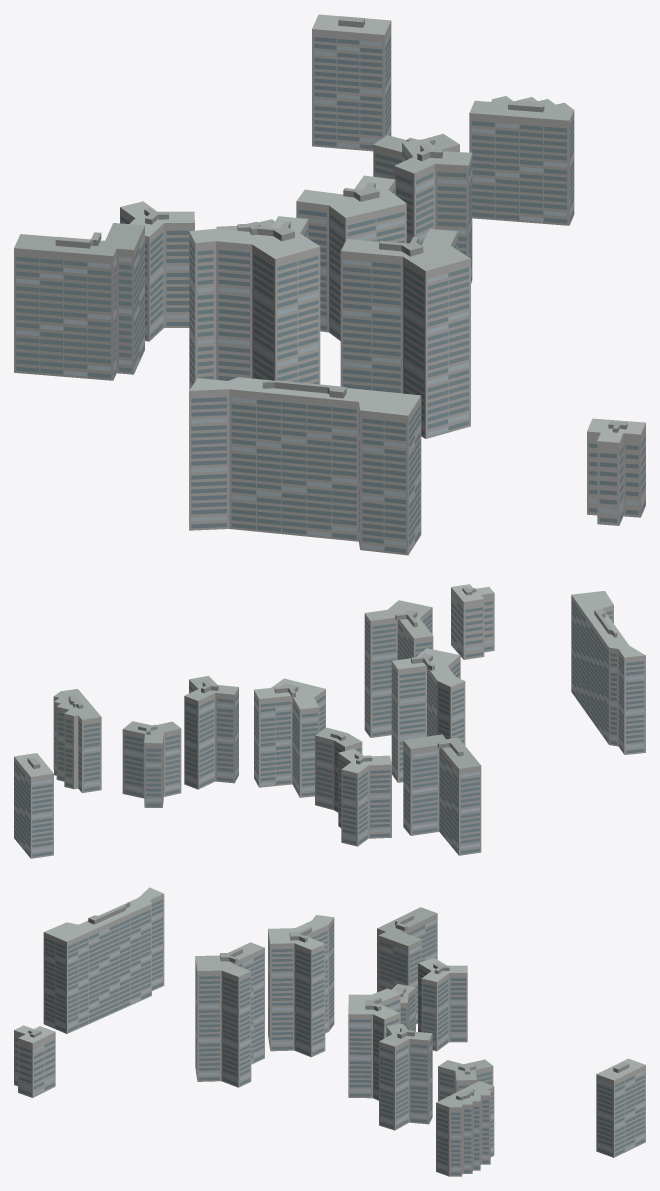
Rendered from apt-a12187501.glb.
3 views of the same model, one above another, from view 1: azimuth 30°, elevation 25°; view 2: azimuth 150°, elevation 25°; view 3: azimuth 270°, elevation 25° (orthographic). The views are drawn at different scales.
Visible parts, largest first — view 1: apt-a12187501; view 2: apt-a12187501; view 3: apt-a12187501.
Boxes of the visible parts, box(x1,y1,x2,y2) form: apt-a12187501: box(14, 14, 645, 555); apt-a12187501: box(14, 584, 645, 858); apt-a12187501: box(14, 887, 645, 1176).
Bounding box in the file's own units: 250 × 68 × 339.
